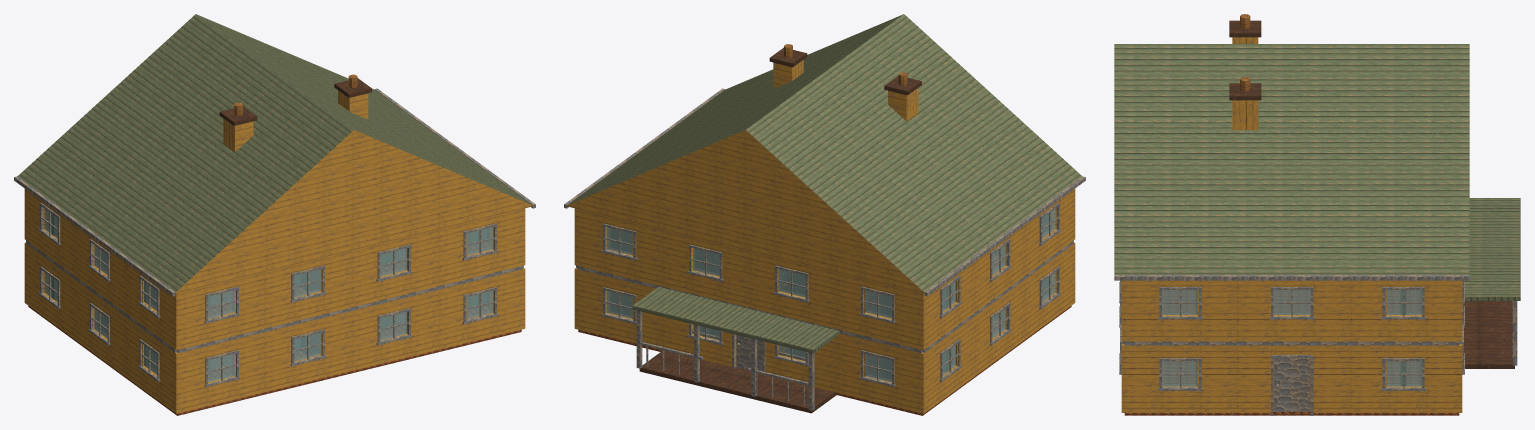
File: willow-pair.gltf
The picture shows the model from 3 angles, left to right: view 1: azimuth 30°, elevation 25°; view 2: azimuth 150°, elevation 25°; view 3: azimuth 270°, elevation 25°; orthographic projection. The views are drawn at different scales.
Visible parts, largest first — view 1: roof-L1-slate, exterior-L0-brick, exterior-L1-brick, roof-L1-brick, trim-L0-dark-wood, trim-L1-dark-wood, glazing-L0-glass, glazing-L1-glass, exterior-L0-dark-wood, roof-L1-dark-wood, floor-L0-floor, details-L1-brick (+3 smaller); view 2: roof-L1-slate, exterior-L1-brick, roof-L1-brick, exterior-L0-brick, porch-L0-slate, porch-L0-stone, trim-L1-dark-wood, trim-L0-dark-wood, glazing-L1-glass, porch-L0-dark-wood, glazing-L0-glass, roof-L1-dark-wood (+7 smaller); view 3: roof-L1-slate, exterior-L0-brick, exterior-L1-brick, porch-L0-slate, porch-L0-stone, glazing-L1-glass, trim-L0-dark-wood, floor-L0-floor, roof-L1-dark-wood, door-leaf-L0-dark-wood, trim-L1-dark-wood, floor-L1-floor (+5 smaller).
Part boxes in pixels (<box>): roof-L1-slate: <box>17,14,531,292</box>; exterior-L0-brick: <box>24,242,525,413</box>; exterior-L1-brick: <box>24,189,525,349</box>; roof-L1-brick: <box>175,130,532,293</box>; trim-L0-dark-wood: <box>39,266,498,387</box>; trim-L1-dark-wood: <box>39,203,498,323</box>; glazing-L0-glass: <box>44,272,493,382</box>; glazing-L1-glass: <box>44,209,493,318</box>; exterior-L0-dark-wood: <box>26,240,523,352</box>; roof-L1-dark-wood: <box>14,88,535,296</box>; floor-L0-floor: <box>28,306,521,415</box>; details-L1-brick: <box>223,90,368,151</box>; roof-L1-slate: <box>568,14,1082,292</box>; exterior-L1-brick: <box>574,189,1075,349</box>; roof-L1-brick: <box>566,130,924,293</box>; exterior-L0-brick: <box>574,242,1075,413</box>; porch-L0-slate: <box>632,287,839,353</box>; porch-L0-stone: <box>639,350,836,413</box>; trim-L1-dark-wood: <box>601,203,1060,323</box>; trim-L0-dark-wood: <box>601,266,1060,387</box>; glazing-L1-glass: <box>606,209,1055,318</box>; porch-L0-dark-wood: <box>636,310,814,410</box>; glazing-L0-glass: <box>606,272,1055,382</box>; roof-L1-dark-wood: <box>564,88,1085,296</box>; roof-L1-slate: <box>1114,44,1469,274</box>; exterior-L0-brick: <box>1121,344,1462,412</box>; exterior-L1-brick: <box>1121,280,1462,341</box>; porch-L0-slate: <box>1464,198,1520,300</box>; porch-L0-stone: <box>1464,301,1514,368</box>; glazing-L1-glass: <box>1162,290,1421,314</box>; trim-L0-dark-wood: <box>1119,303,1464,415</box>; floor-L0-floor: <box>1124,358,1459,415</box>; roof-L1-dark-wood: <box>1114,275,1469,280</box>; door-leaf-L0-dark-wood: <box>1274,358,1309,411</box>; trim-L1-dark-wood: <box>1119,280,1464,319</box>; floor-L1-floor: <box>1165,290,1418,311</box>.
Size of the model in its own units: 12.66 by 8.25 by 10.93.
10 materials, 9 textured.
